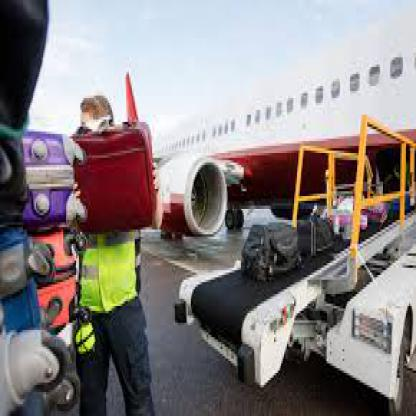baggagetruck: (170, 101, 414, 412)
